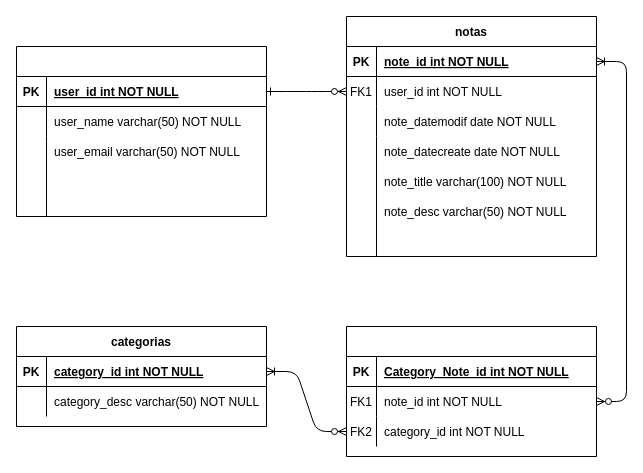
The diagram is 643 pixels wide and 473 high, and some of its shapes have lost their labels. Here are the shapes that lost their labels. From the top down, the box of each, then its label:
(16, 46, 266, 216): usuarios
(346, 326, 596, 456): categorias_notas
